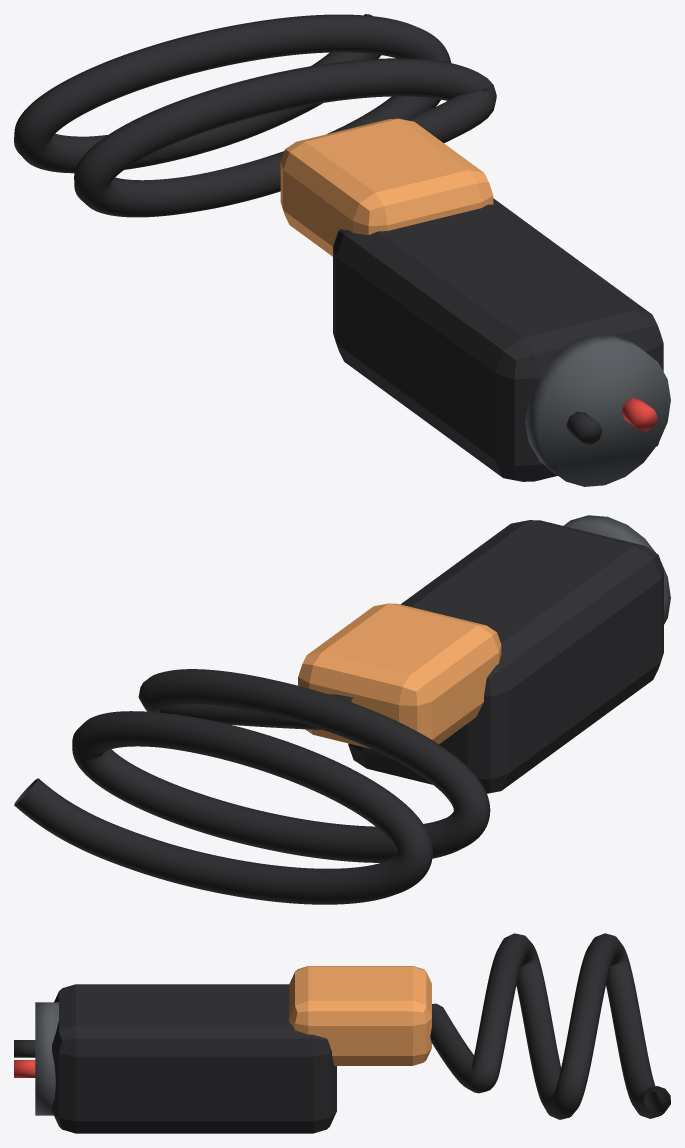
The model's file is rover-connector.glb.
3 renders of one model, top to bottom at view 1: azimuth 30°, elevation 25°; view 2: azimuth 150°, elevation 25°; view 3: azimuth 270°, elevation 25°, orthographic. The views are drawn at different scales.
Visible parts, largest first — view 1: plug_body, coil, grip, face, pin_neg, pin_pos; view 2: coil, plug_body, grip, face; view 3: plug_body, coil, grip, face, pin_neg, pin_pos.
Part boxes in pixels (x1=…): plug_body: x1=333, y1=198, x2=663, y2=481; coil: x1=14, y1=14, x2=496, y2=217; grip: x1=280, y1=118, x2=493, y2=256; face: x1=525, y1=333, x2=670, y2=486; pin_neg: x1=566, y1=411, x2=602, y2=444; pin_pos: x1=621, y1=398, x2=657, y2=431; coil: x1=14, y1=669, x2=490, y2=904; plug_body: x1=348, y1=520, x2=663, y2=793; grip: x1=298, y1=603, x2=501, y2=748; face: x1=563, y1=515, x2=670, y2=624; plug_body: x1=52, y1=984, x2=336, y2=1133; coil: x1=430, y1=933, x2=670, y2=1119; grip: x1=289, y1=966, x2=431, y2=1065; face: x1=35, y1=1002, x2=58, y2=1115; pin_neg: x1=14, y1=1040, x2=35, y2=1057; pin_pos: x1=14, y1=1060, x2=35, y2=1077.
Size of the model in its own units: 0.1468 by 0.0651 by 0.2766.
